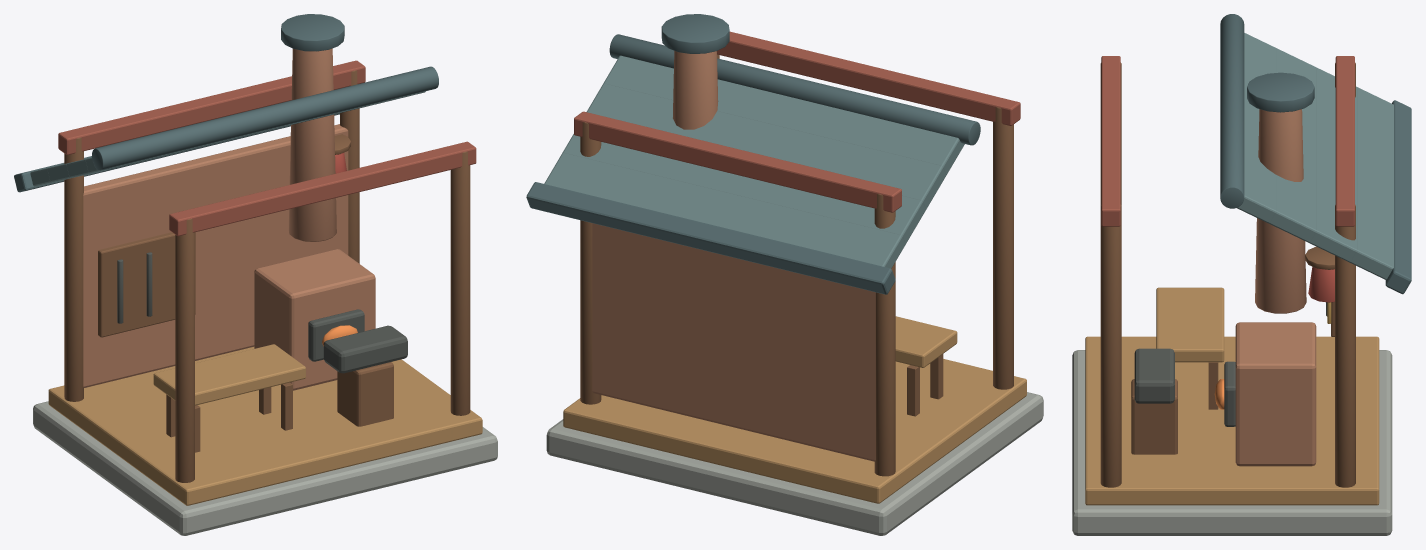
File: building_workshop_open.glb
3 renders of one model, left to right at view 1: azimuth 30°, elevation 25°; view 2: azimuth 150°, elevation 25°; view 3: azimuth 270°, elevation 25°, orthographic. The views are drawn at different scales.
Parts seen in each view (by area): view 1: RearBrickWall, RaisedFloor.004, Foundation.004, ForgeBody, RoofRidge.004, TopBeam.008, TopBeam.009, Chimney, ToolRack, TimberPost.018, TimberPost.016, WorkTableTop.002 (+7 smaller); view 2: RearBrickWall, RaisedFloor.004, Foundation.004, RearEave.004, TopBeam.009, TopBeam.008, RoofRidge.004, TimberPost.016, TimberPost.017, Chimney, TimberPost.019, ChimneyCap (+43 smaller); view 3: RaisedFloor.004, Foundation.004, ForgeBody, Chimney, TimberPost.018, TimberPost.019, WorkTableTop.002, RoofRidge.004, RearEave.004, TopBeam.008, TopBeam.009, AnvilBase (+28 smaller).
Part boxes in pixels (bbox=[...]): RearBrickWall: bbox=[83, 124, 348, 387]; RaisedFloor.004: bbox=[48, 347, 482, 505]; Foundation.004: bbox=[33, 401, 497, 535]; ForgeBody: bbox=[254, 249, 375, 390]; RoofRidge.004: bbox=[92, 66, 438, 170]; TopBeam.008: bbox=[169, 141, 476, 236]; TopBeam.009: bbox=[58, 60, 365, 154]; Chimney: bbox=[288, 48, 336, 241]; ToolRack: bbox=[98, 232, 195, 337]; TimberPost.018: bbox=[450, 151, 470, 415]; TimberPost.016: bbox=[175, 218, 194, 482]; WorkTableTop.002: bbox=[153, 344, 305, 405]; RearBrickWall: bbox=[592, 223, 875, 461]; RaisedFloor.004: bbox=[563, 359, 1026, 503]; Foundation.004: bbox=[546, 392, 1043, 535]; RearEave.004: bbox=[526, 182, 895, 294]; TopBeam.009: bbox=[574, 111, 901, 212]; TopBeam.008: bbox=[717, 31, 1020, 125]; RoofRidge.004: bbox=[609, 34, 980, 145]; TimberPost.016: bbox=[993, 107, 1013, 389]; TimberPost.017: bbox=[874, 194, 895, 476]; Chimney: bbox=[673, 51, 718, 129]; TimberPost.019: bbox=[580, 122, 601, 404]; ChimneyCap: bbox=[661, 14, 729, 53]; RaisedFloor.004: bbox=[1085, 336, 1379, 505]; Foundation.004: bbox=[1072, 350, 1392, 535]; ForgeBody: bbox=[1235, 322, 1316, 466]; Chimney: bbox=[1255, 109, 1306, 313]; TimberPost.018: bbox=[1100, 204, 1121, 487]; TimberPost.019: bbox=[1335, 204, 1355, 487]; WorkTableTop.002: bbox=[1156, 287, 1224, 362]; RoofRidge.004: bbox=[1220, 14, 1244, 208]; RearEave.004: bbox=[1385, 100, 1411, 294]; TopBeam.008: bbox=[1101, 56, 1120, 226]; TopBeam.009: bbox=[1335, 56, 1354, 226]; AnvilBase: bbox=[1131, 379, 1177, 454].
Bounding box in the file's own units: 2.54 × 2.77 × 2.1.
